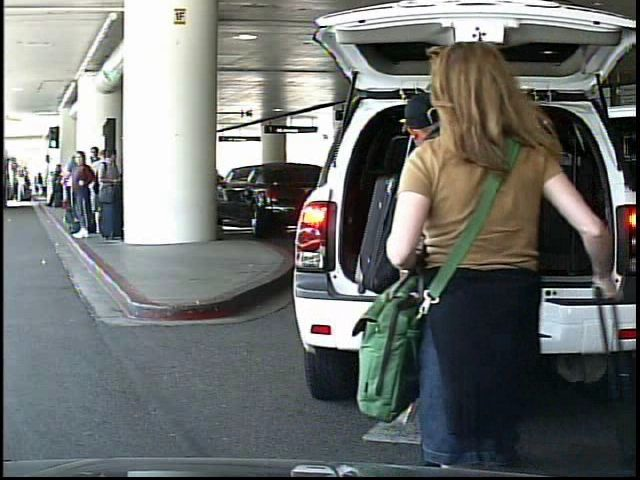person: (380, 34, 584, 480), (384, 74, 551, 460), (17, 174, 27, 205), (35, 172, 46, 199)
